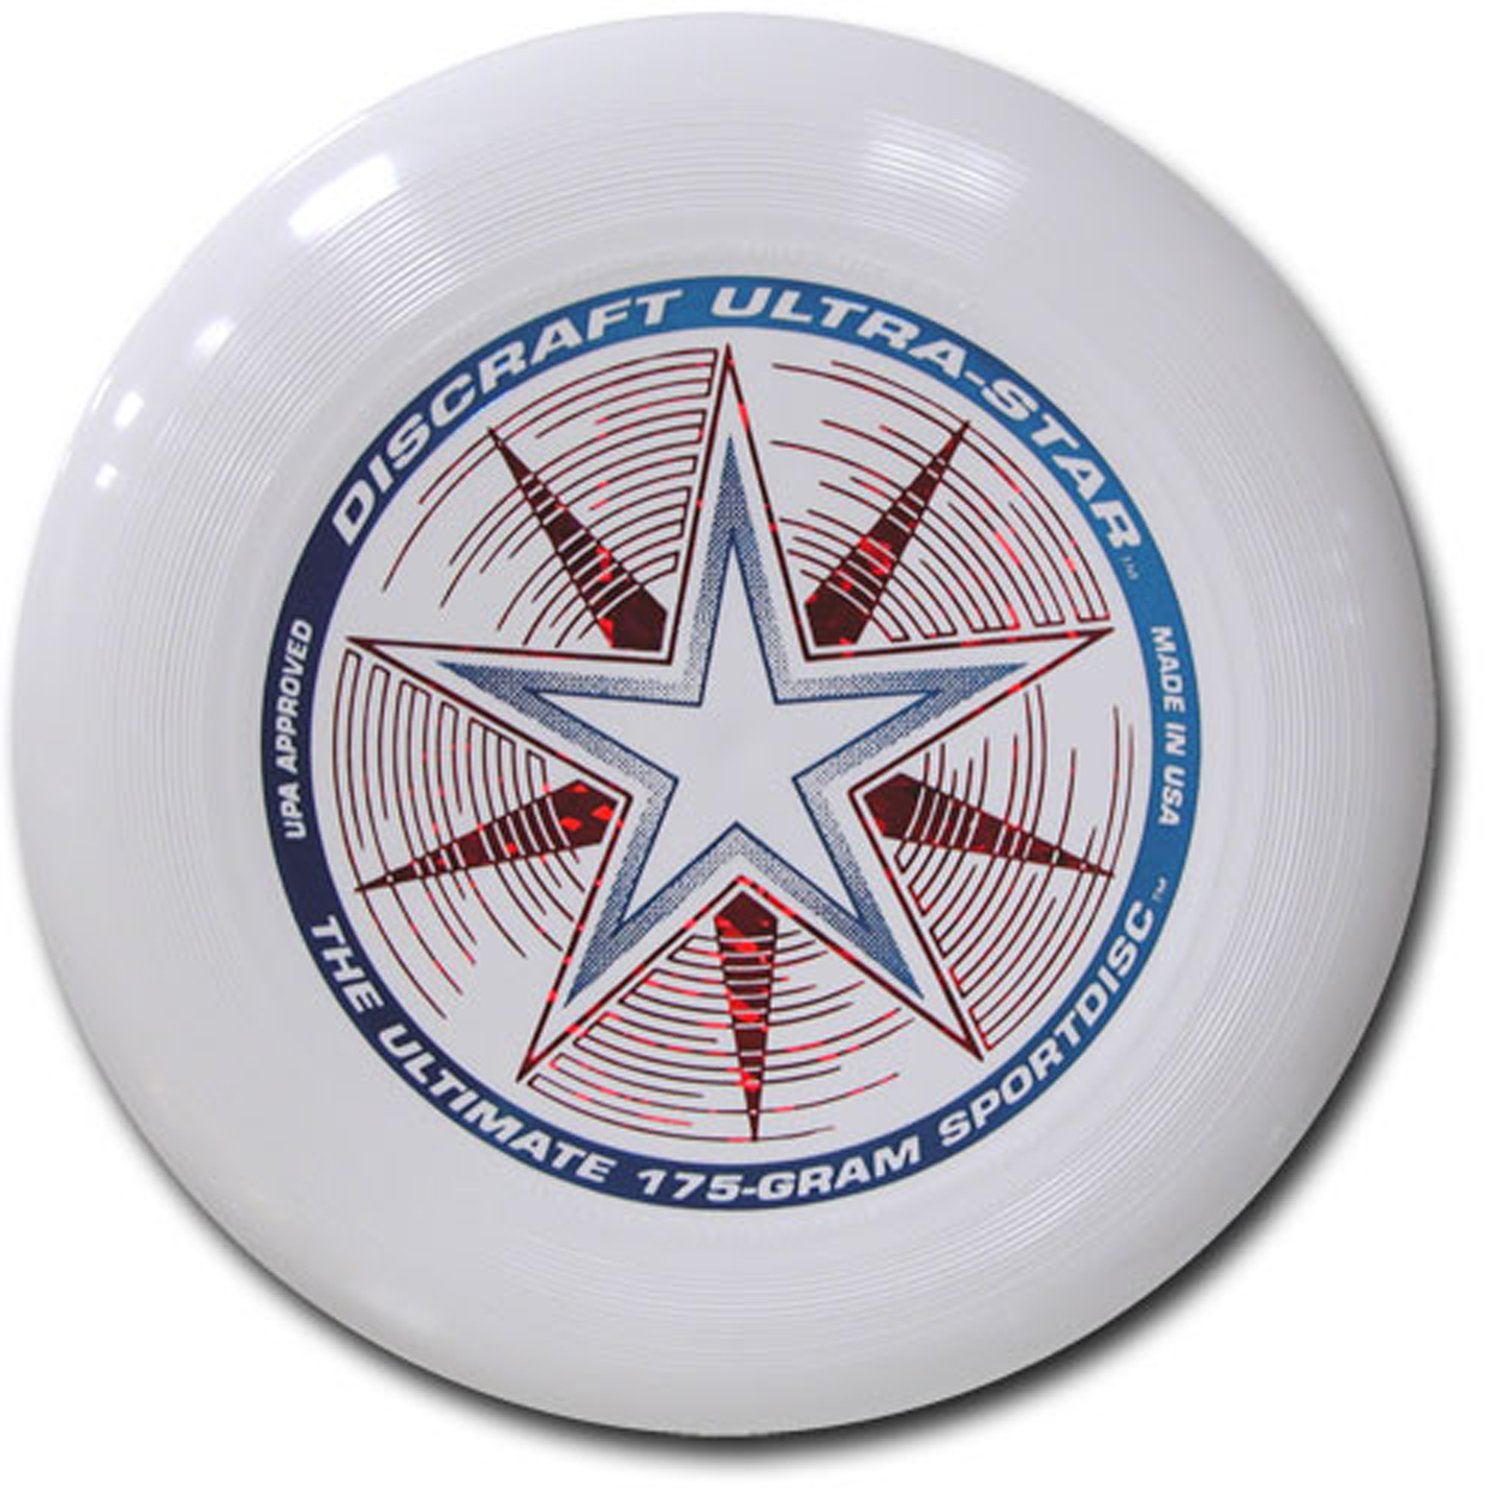disc: (18, 8, 1462, 1463)
